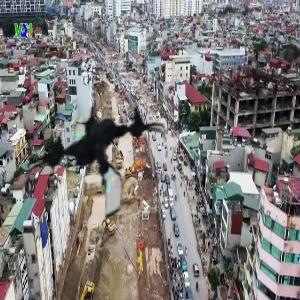drone: (28, 85, 170, 227)
